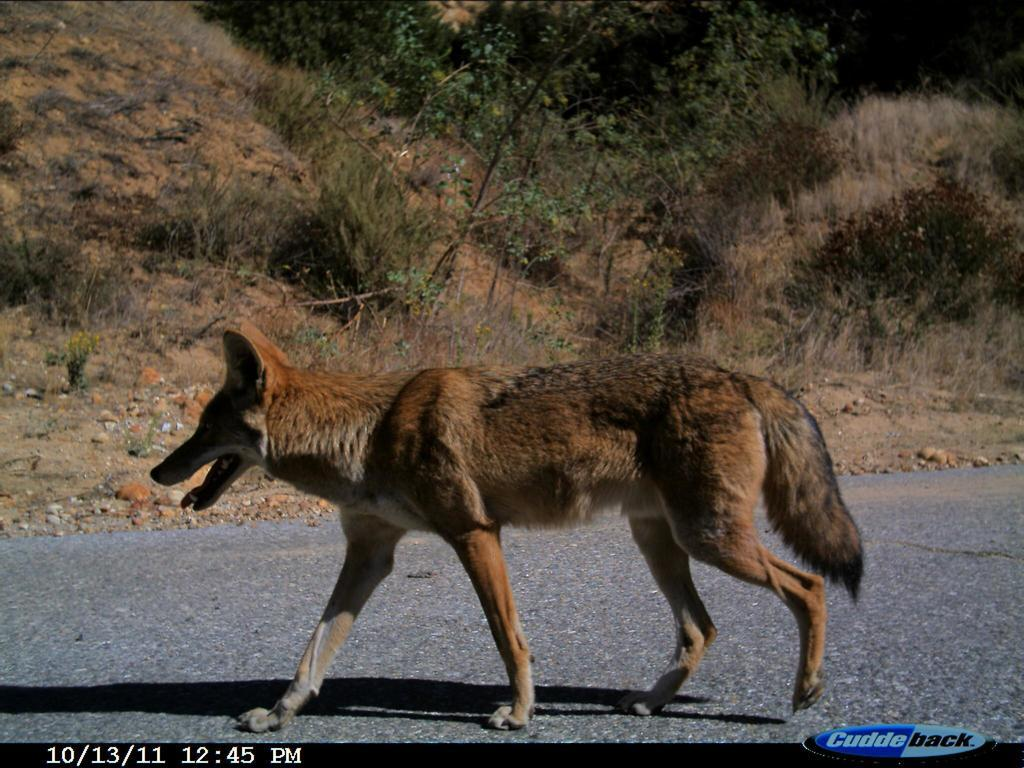coyote: (146, 315, 870, 737)
